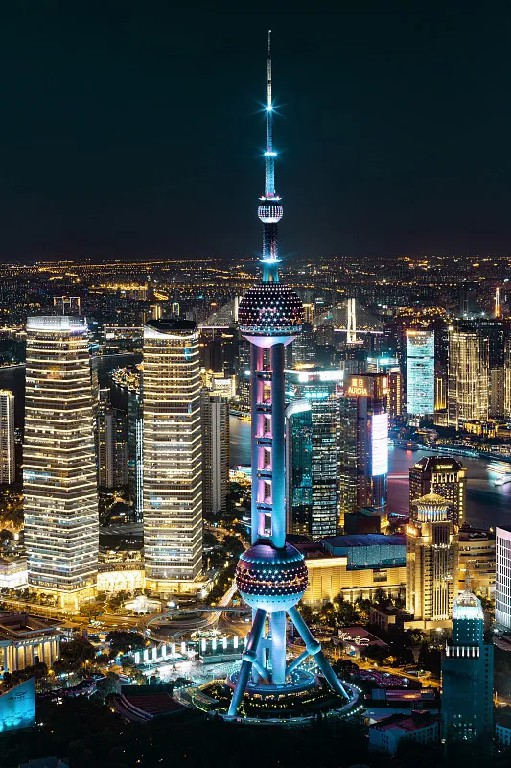Oriental: (227, 26, 349, 721)
